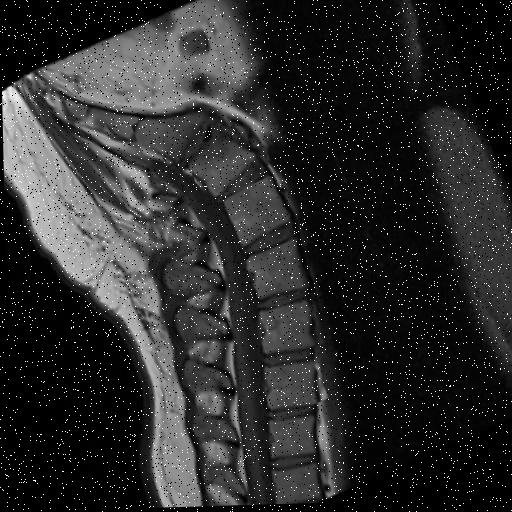L1: (261, 362, 313, 411)
L2: (256, 301, 310, 354)
L3: (244, 240, 301, 299)
L4: (220, 178, 287, 247)
L5: (185, 138, 254, 197)
S1: (132, 113, 201, 162)
